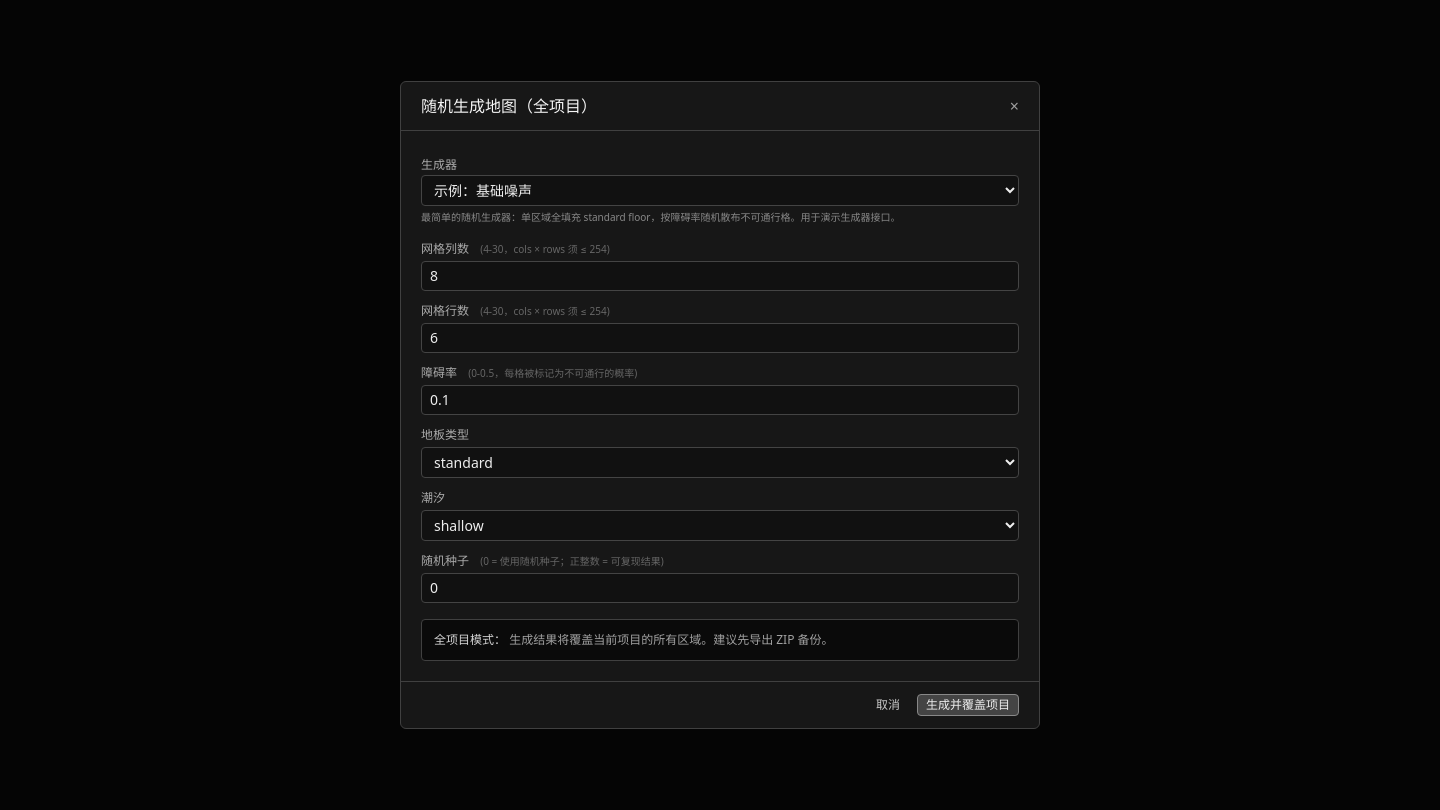
Test: GeneratorModal › 生成抛错时显示错误信息且 modal 保持打开
Click the button "生成并覆盖项目". click: [968, 705]
box: [917,694,1019,716]
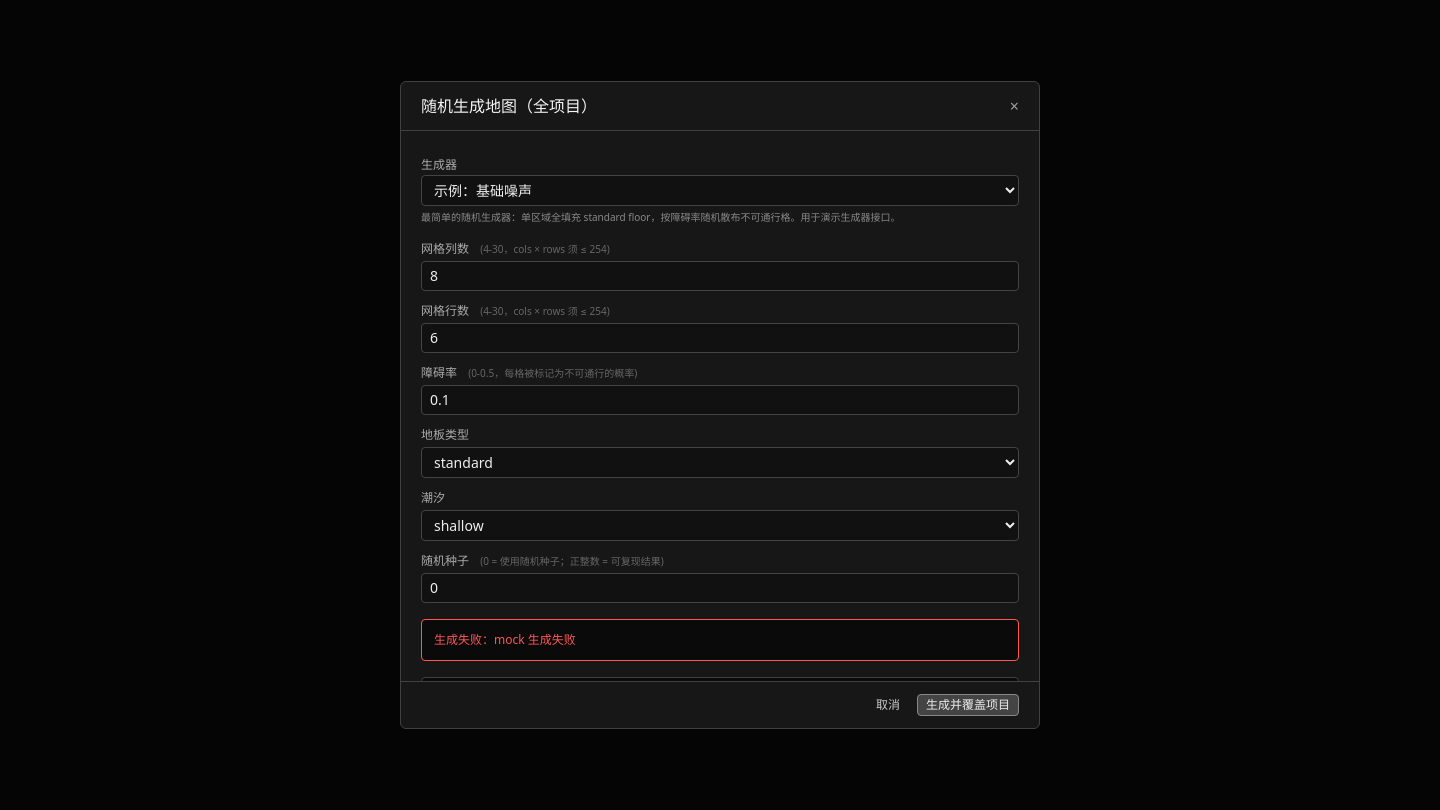
Check: the text "生成失败：mock 生成失败" is shown, box [421,619,1019,661]
